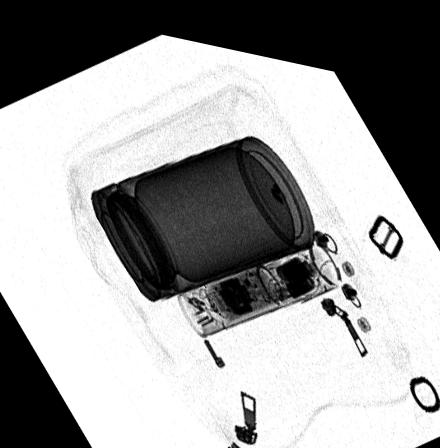Baton: (176, 224, 344, 330)
